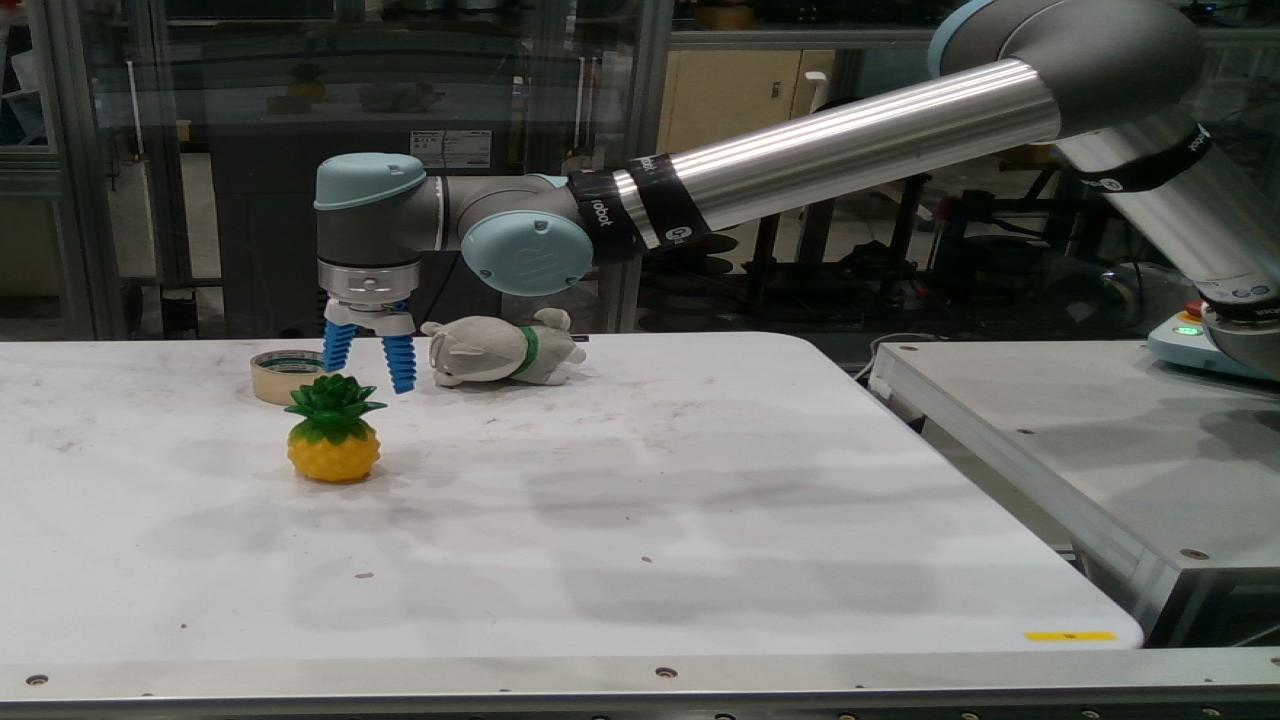UR5: (316, 0, 1279, 378)
gripper_left: (323, 321, 360, 373)
gripper_right: (381, 334, 416, 395)
target: (420, 308, 586, 388), (283, 373, 390, 482), (250, 349, 340, 405)
